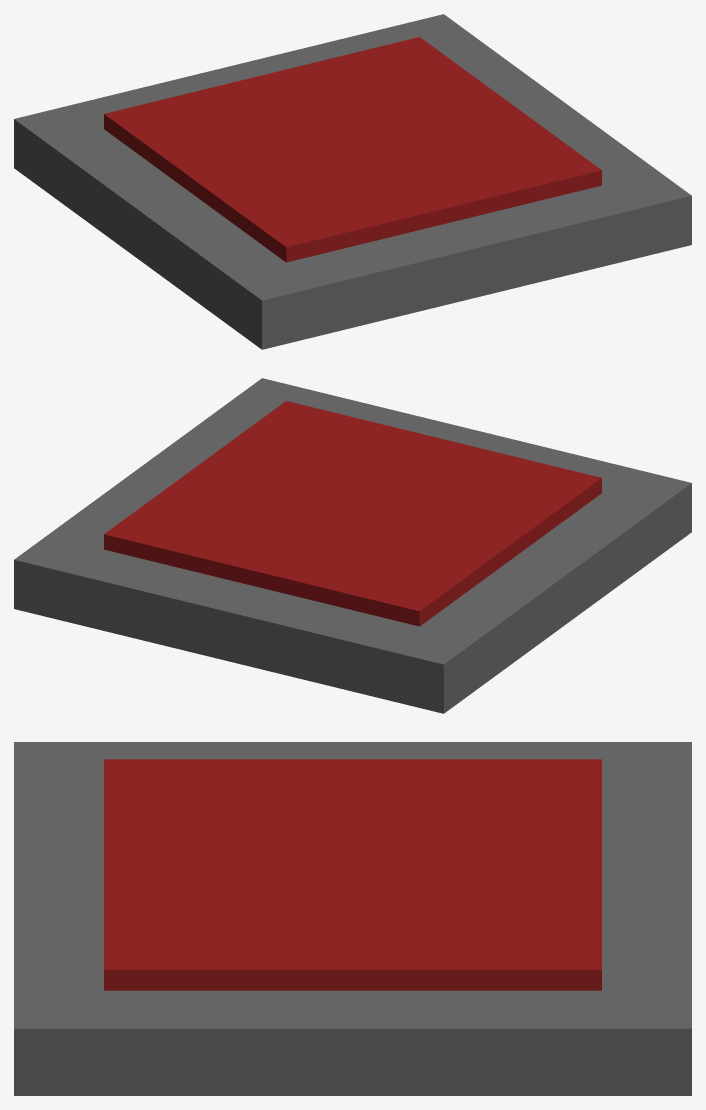
The model's file is plita.fbx.
The picture shows the model from 3 angles, top to bottom: view 1: azimuth 30°, elevation 25°; view 2: azimuth 150°, elevation 25°; view 3: azimuth 270°, elevation 25°; orthographic projection. The views are drawn at different scales.
Parts seen in each view (by area): view 1: Cube, Cube.001; view 2: Cube, Cube.001; view 3: Cube, Cube.001.
Part boxes in pixels (x1=…): Cube: x1=14, y1=14, x2=691, y2=349; Cube.001: x1=104, y1=37, x2=601, y2=262; Cube: x1=14, y1=378, x2=691, y2=713; Cube.001: x1=104, y1=401, x2=601, y2=626; Cube: x1=14, y1=742, x2=691, y2=1095; Cube.001: x1=104, y1=759, x2=601, y2=990.
Bounding box in the file's own units: 341 × 48.96 × 341.
